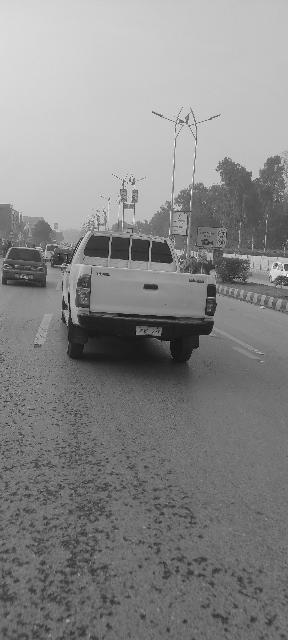Number: (137, 328, 160, 334)
